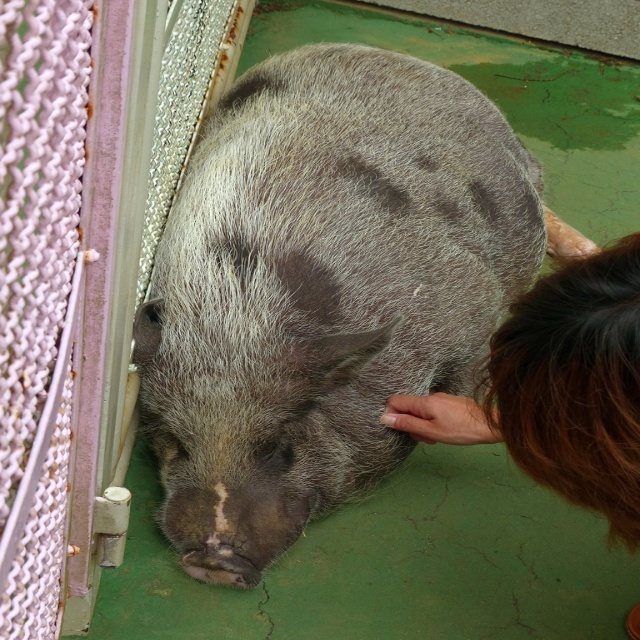Pig: (130, 41, 546, 590)
